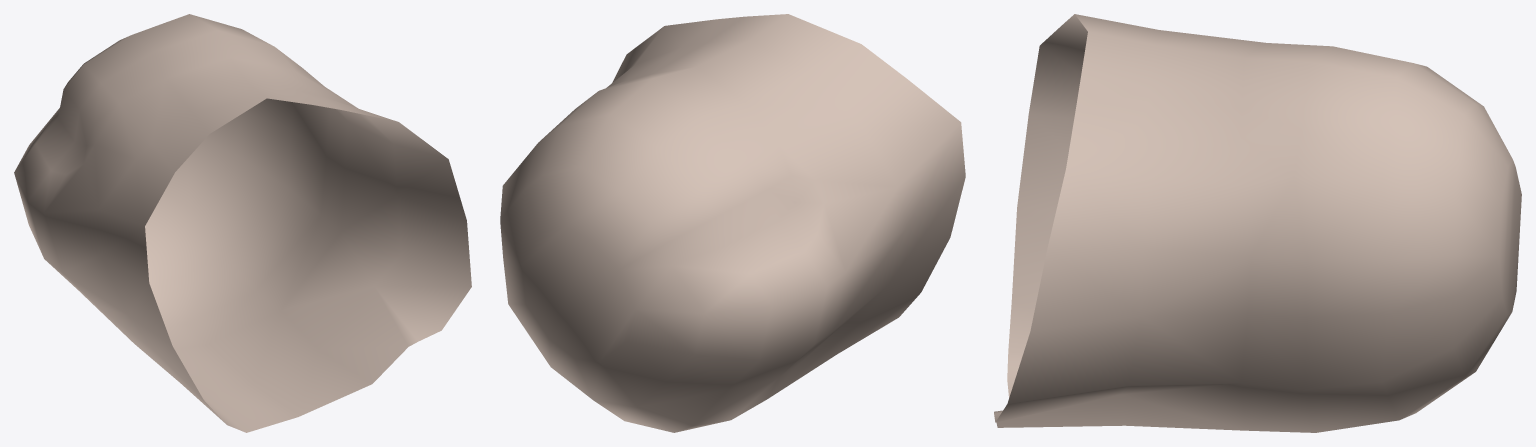
Rendered from LElbowLink.dae.
3 views of the same model, side by side, from view 1: azimuth 30°, elevation 25°; view 2: azimuth 150°, elevation 25°; view 3: azimuth 270°, elevation 25° (orthographic). The views are drawn at different scales.
Visible parts, largest first — view 1: ShapeIndexedFaceSet; view 2: ShapeIndexedFaceSet; view 3: ShapeIndexedFaceSet.
Boxes of the visible parts, x1,y1,x2,y2 form: ShapeIndexedFaceSet: [14, 14, 471, 432]; ShapeIndexedFaceSet: [500, 14, 965, 432]; ShapeIndexedFaceSet: [994, 14, 1521, 432].
Size of the model in its own units: 0.0985 by 0.1111 by 0.089.
